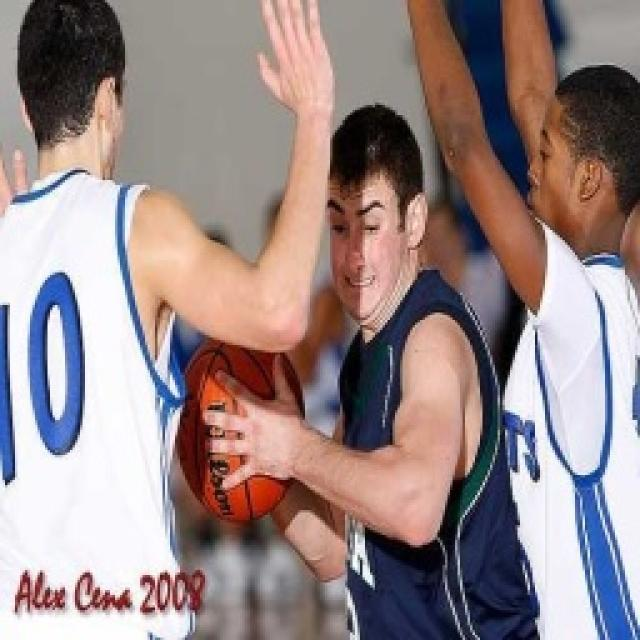rim: (176, 313, 316, 538)
